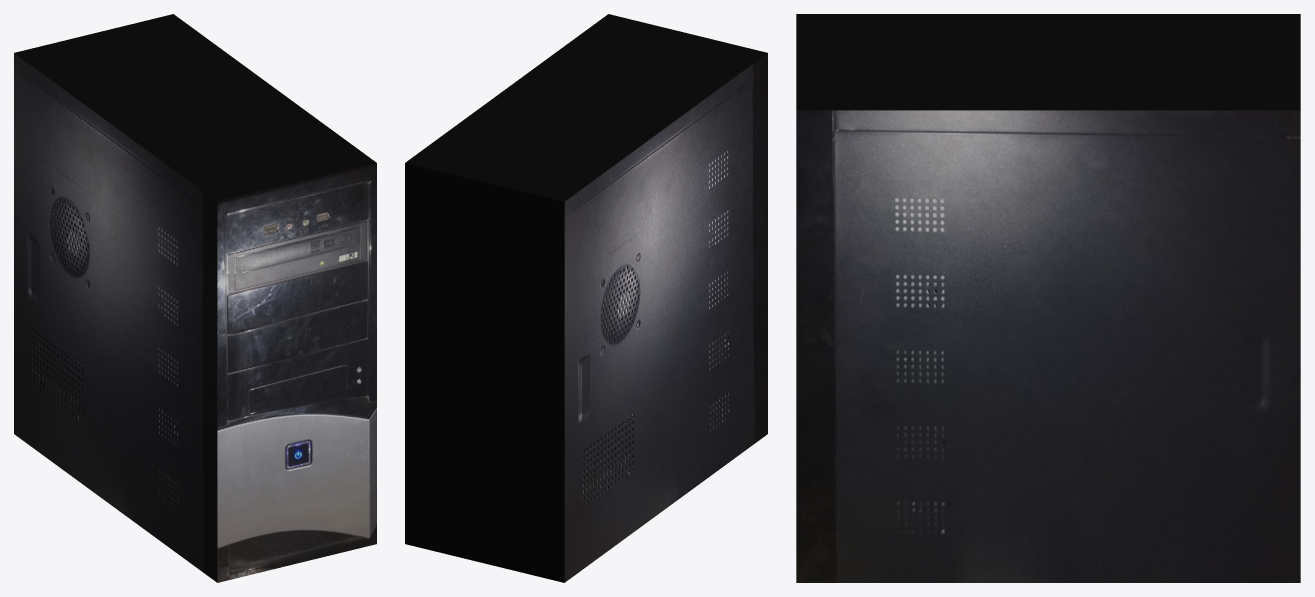
Rendered from Комп.fbx.
The picture shows the model from 3 angles, left to right: view 1: azimuth 30°, elevation 25°; view 2: azimuth 150°, elevation 25°; view 3: azimuth 270°, elevation 25°; orthographic projection. The views are drawn at different scales.
Parts seen in each view (by area): view 1: Объект_Куб; view 2: Объект_Куб; view 3: Объект_Куб.
Boxes of the visible parts, x1,y1,x2,y2 form: Объект_Куб: [14, 14, 376, 582]; Объект_Куб: [405, 14, 767, 582]; Объект_Куб: [796, 14, 1300, 582].
Size of the model in its own units: 200 by 457 by 442.
4 materials, 4 textured.
